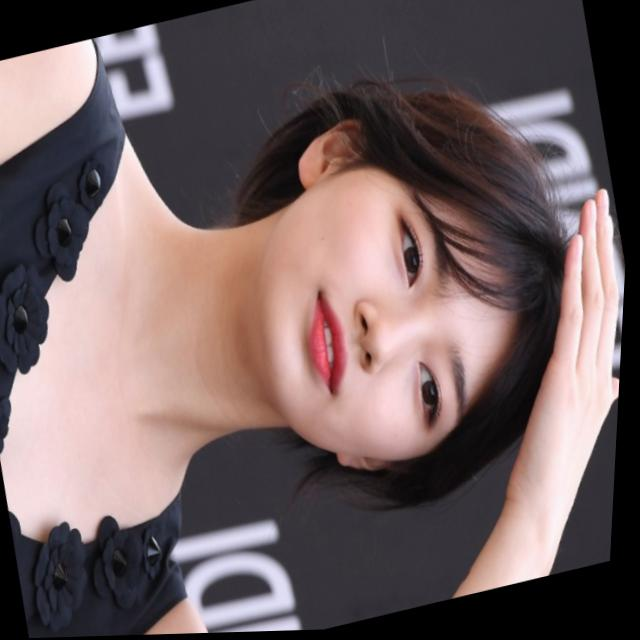face: (196, 69, 620, 515)
